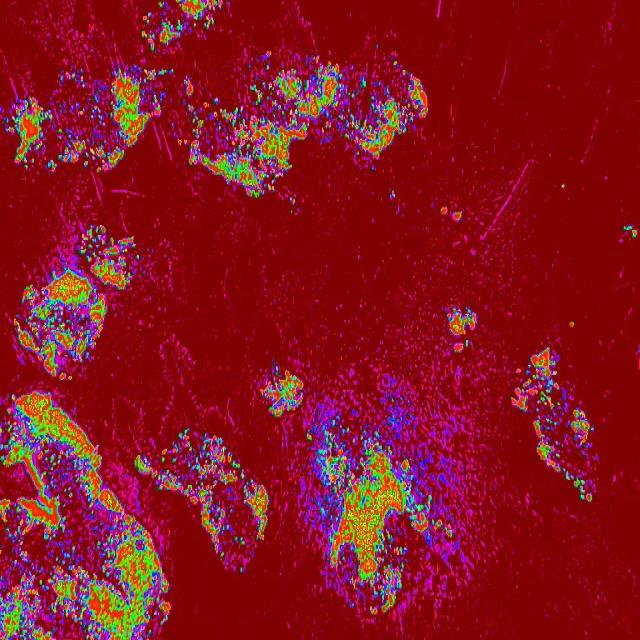fire: (1, 389, 170, 640), (180, 52, 430, 198), (301, 392, 454, 614), (0, 61, 176, 177), (15, 221, 144, 378), (172, 425, 266, 574), (514, 345, 596, 506), (143, 0, 225, 54), (262, 365, 308, 420), (442, 302, 480, 353), (439, 206, 464, 224), (620, 222, 640, 242), (286, 196, 300, 218), (566, 318, 578, 332), (560, 180, 568, 190), (375, 42, 381, 50)
